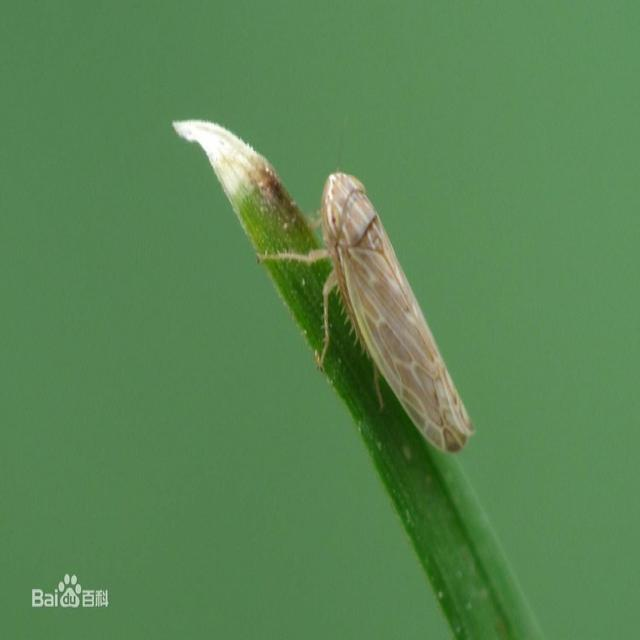Yechan: (302, 158, 478, 466)
